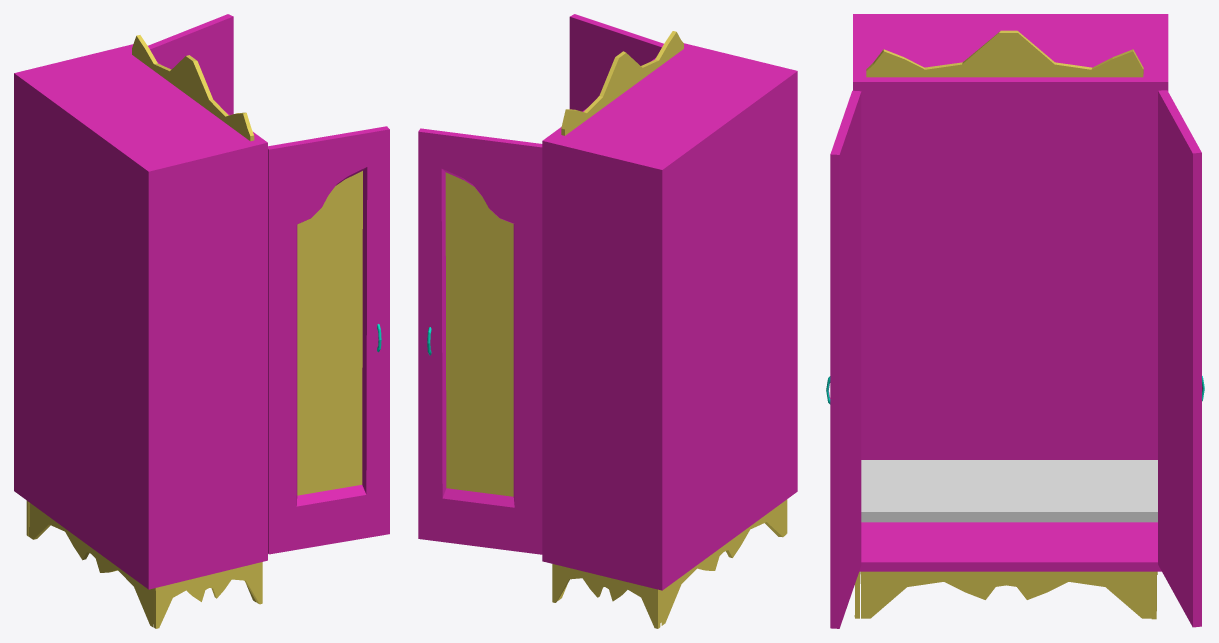
Rendered from doulapa.fbx.
3 renders of one model, left to right at view 1: azimuth 30°, elevation 25°; view 2: azimuth 150°, elevation 25°; view 3: azimuth 270°, elevation 25°, orthographic. The views are drawn at different scales.
Visible parts, largest first — view 1: Cube, Cube.001, Cube.005, Cube.002, Cube.007; view 2: Cube, Cube.002, Cube.001, Cube.005, Cube.007; view 3: Cube, Cube.002, Cube.008, Cube.001, Cube.005, Cube.007.
Boxes of the visible parts, left/top/right/bottom form: Cube: left=14, top=44, right=267, bottom=589; Cube.001: left=268, top=126, right=389, bottom=554; Cube.005: left=26, top=500, right=262, bottom=628; Cube.002: left=148, top=14, right=233, bottom=114; Cube.007: left=132, top=35, right=254, bottom=141; Cube: left=542, top=43, right=797, bottom=590; Cube.002: left=418, top=128, right=542, bottom=554; Cube.001: left=569, top=14, right=663, bottom=111; Cube.005: left=552, top=499, right=787, bottom=628; Cube.007: left=561, top=31, right=683, bottom=135; Cube: left=853, top=14, right=1168, bottom=571; Cube.002: left=1158, top=90, right=1204, bottom=627; Cube.008: left=861, top=460, right=1157, bottom=522; Cube.001: left=826, top=90, right=861, bottom=628; Cube.005: left=854, top=571, right=1157, bottom=619; Cube.007: left=866, top=30, right=1143, bottom=77.
Size of the model in its own units: 2.99 by 6.14 by 3.61.
